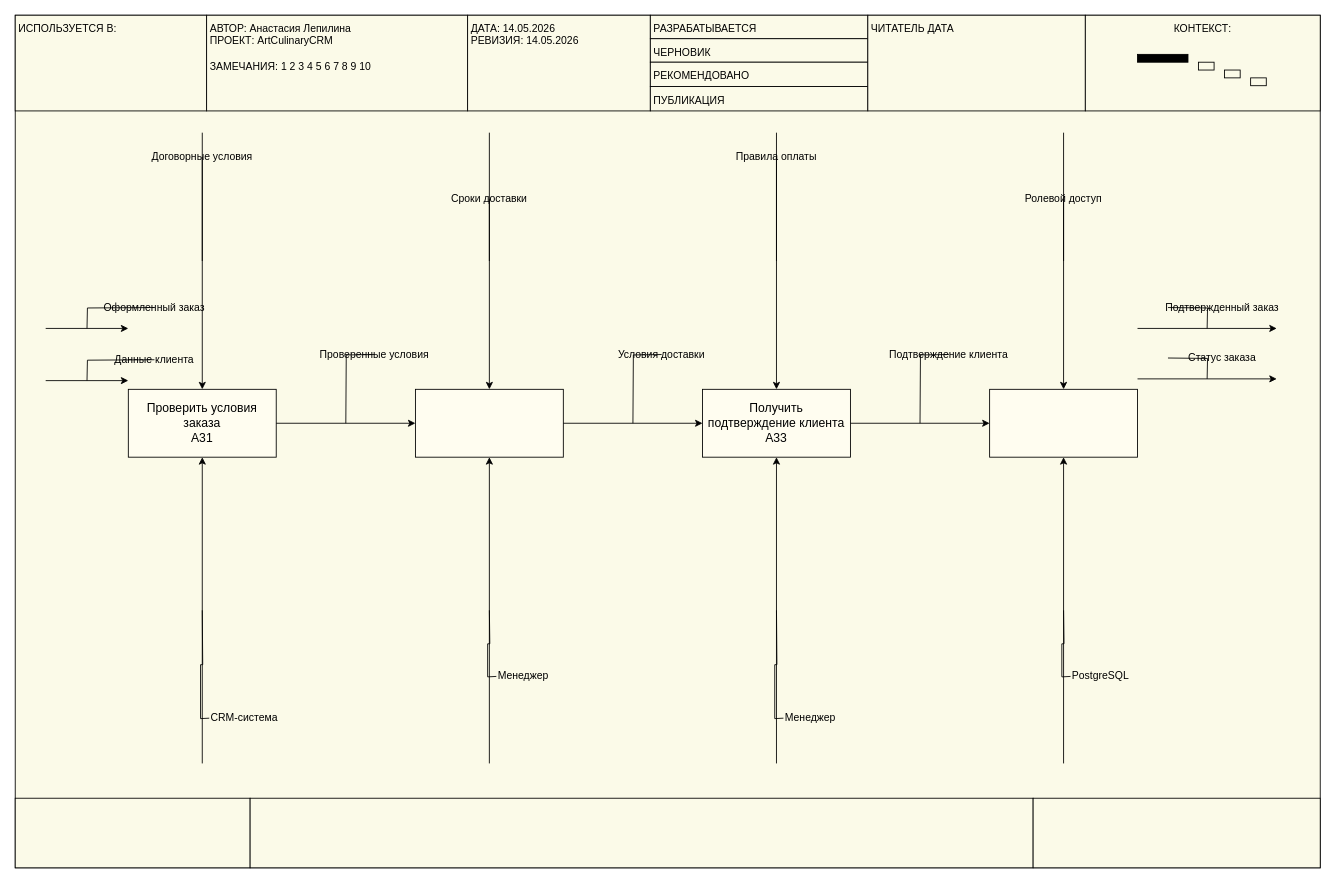
Image size: 1335x883. Some labels were removed from this diagram. Here are the shapes that lost their labels. From the top down, the centre of each, then its label:
At point (489, 422): "Согласовать дату и адрес доставки A32".
At point (1063, 422): "Изменить статус заказа A34".
At point (132, 832): "Ветка: A3".
At point (641, 832): "Название: Подтвердить продажу и доставку".
At point (1176, 832): "Номер: 5".
